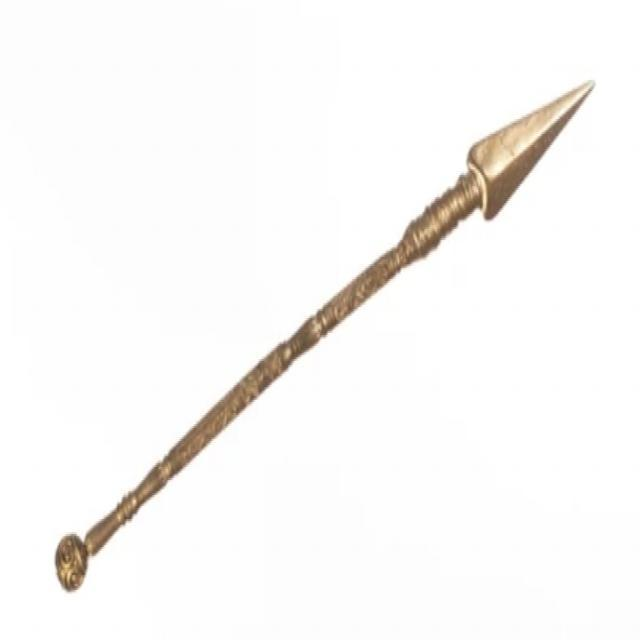spear: (51, 68, 604, 606)
